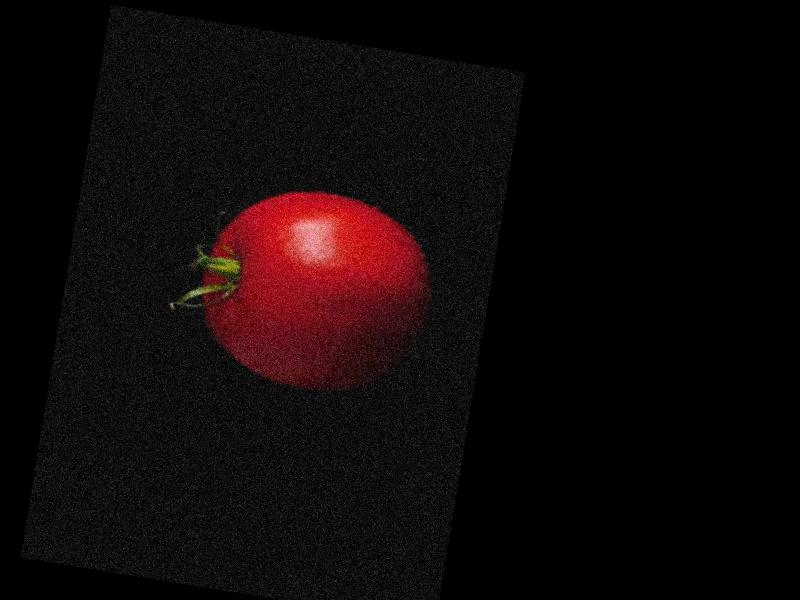Tomato: (188, 176, 437, 404)
